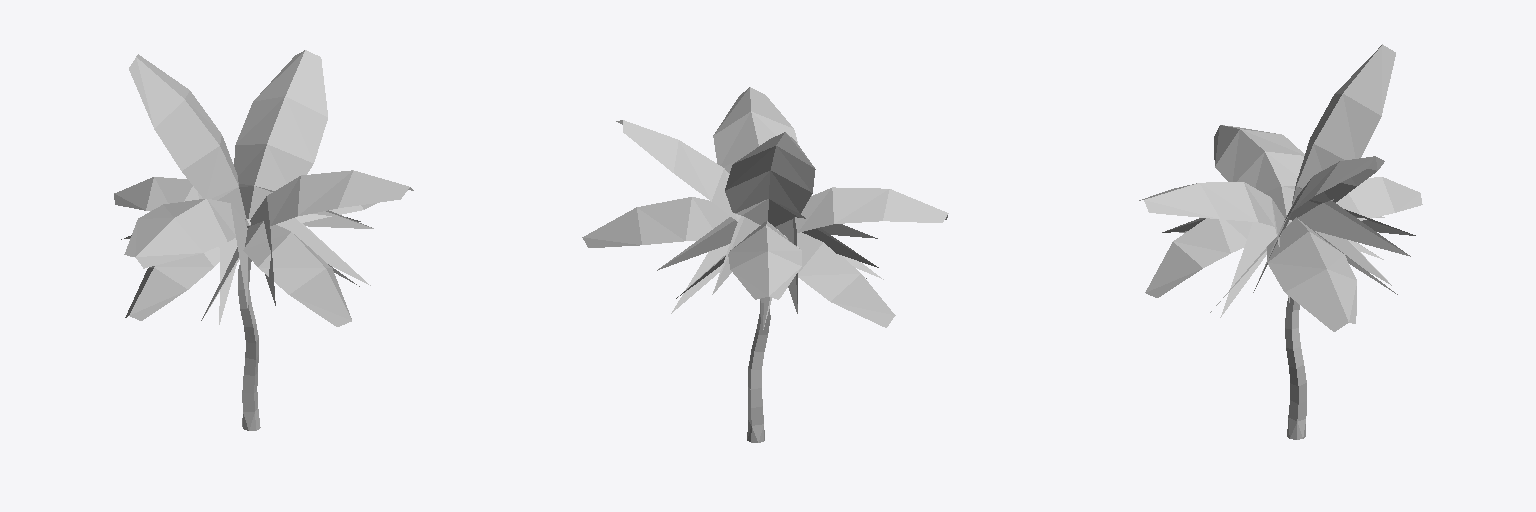
File: coconut palm 04_lod4.obj
3 views of the same model, side by side, from view 1: azimuth 30°, elevation 25°; view 2: azimuth 150°, elevation 25°; view 3: azimuth 270°, elevation 25° (orthographic).
Visible parts, largest first — view 1: tree; view 2: tree; view 3: tree.
Boxes of the visible parts, <box> form: tree: <box>114,50,413,430</box>; tree: <box>582,87,948,442</box>; tree: <box>1139,44,1422,439</box>.
Size of the model in its own units: 374 by 416 by 302.